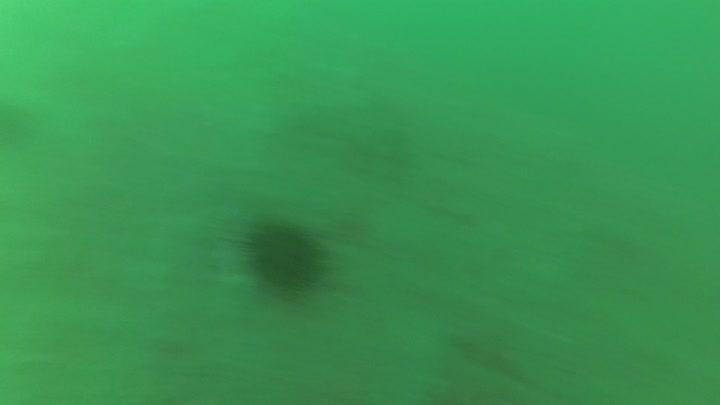echinus: (238, 213, 329, 301)
